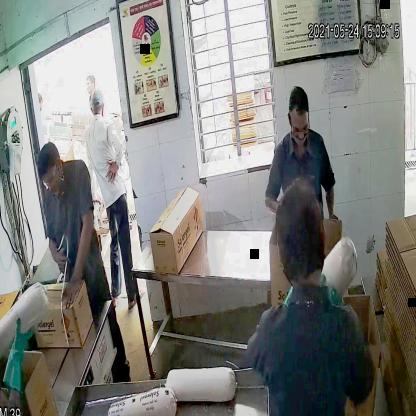goggles: (288, 112, 312, 140)
